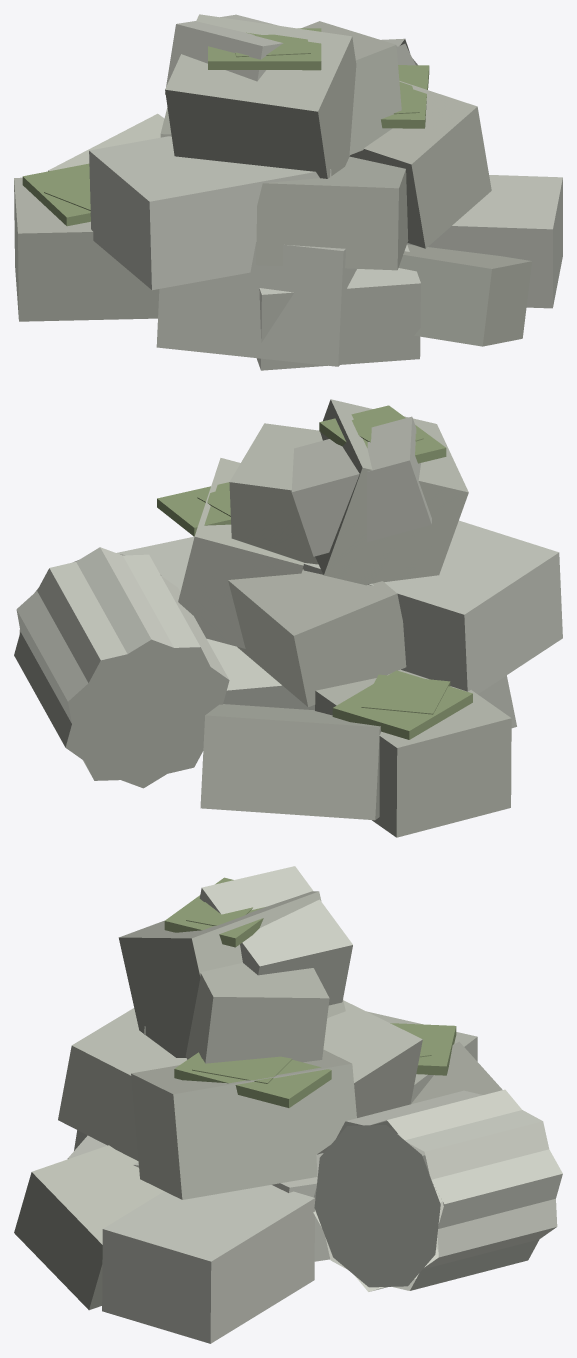
The model's file is ruin_rubble.glb.
3 renders of one model, top to bottom at view 1: azimuth 30°, elevation 25°; view 2: azimuth 150°, elevation 25°; view 3: azimuth 270°, elevation 25°, orthographic. The views are drawn at different scales.
Visible parts, largest first — view 1: ruin_rubble; view 2: ruin_rubble; view 3: ruin_rubble.
Boxes of the visible parts, x1,y1,x2,y2 form: ruin_rubble: (14, 14, 562, 370); ruin_rubble: (14, 399, 562, 837); ruin_rubble: (14, 866, 562, 1343).
Bounding box in the file's own units: 2.27 × 1.38 × 2.17.
